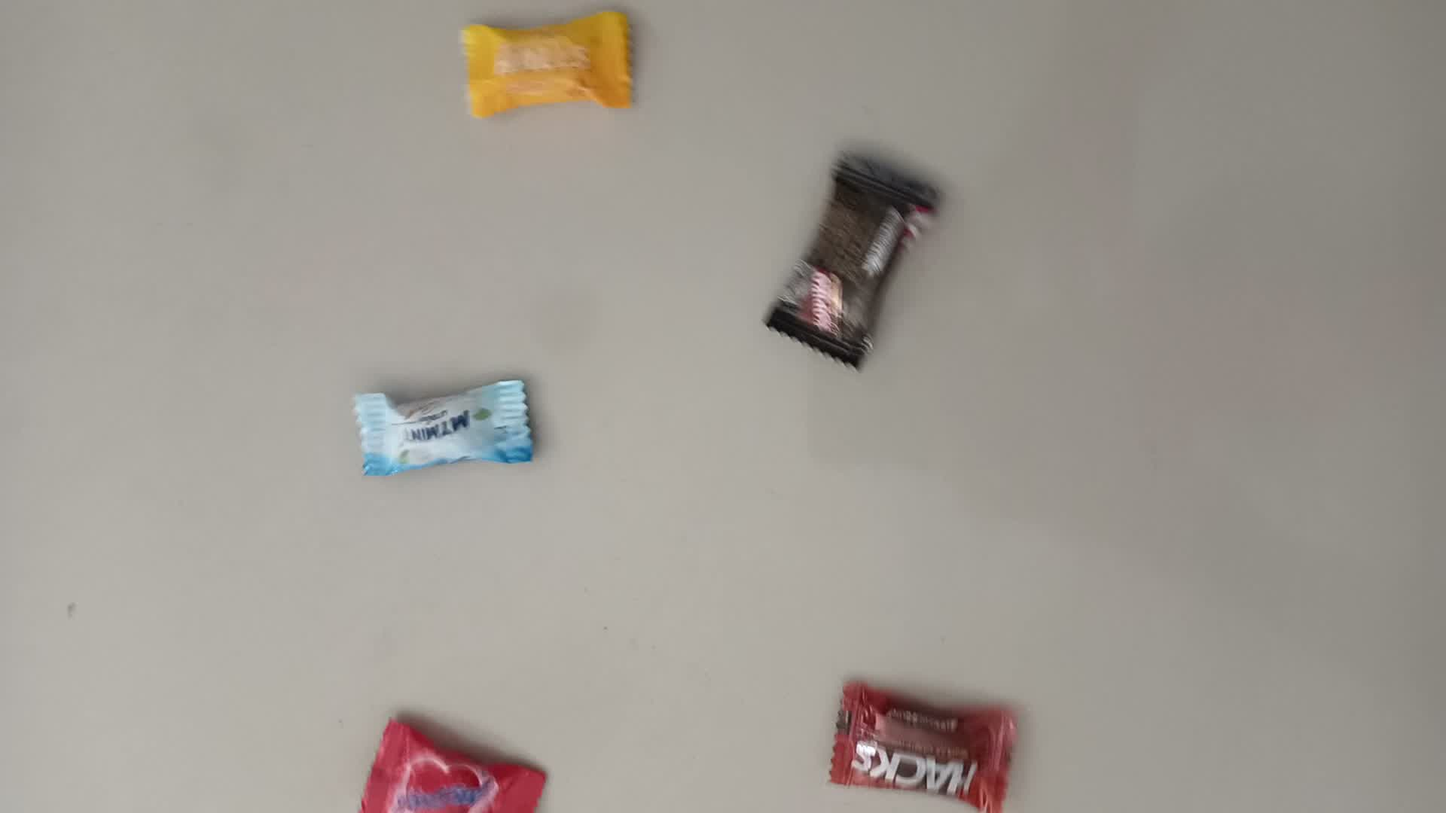HACK: (837, 682, 1022, 813)
HALLS: (452, 11, 645, 113)
HB: (355, 710, 578, 813)
KOPIKO: (789, 163, 945, 362)
MYM: (363, 372, 540, 481)
